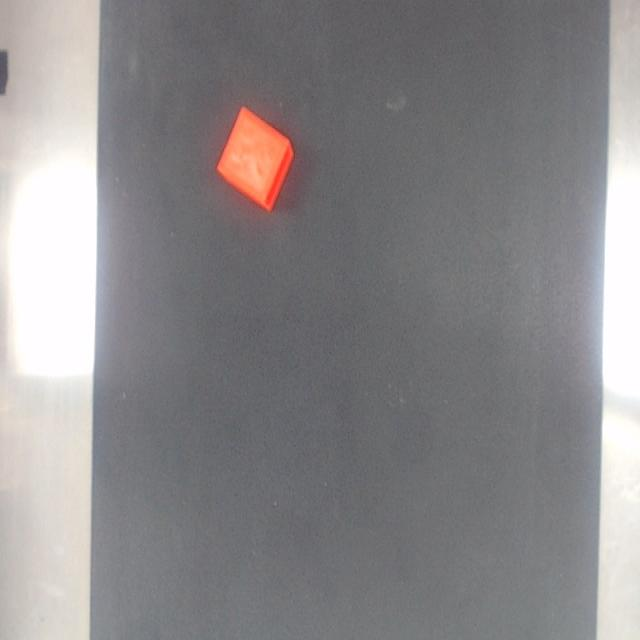Rojo: (216, 107, 293, 212)
